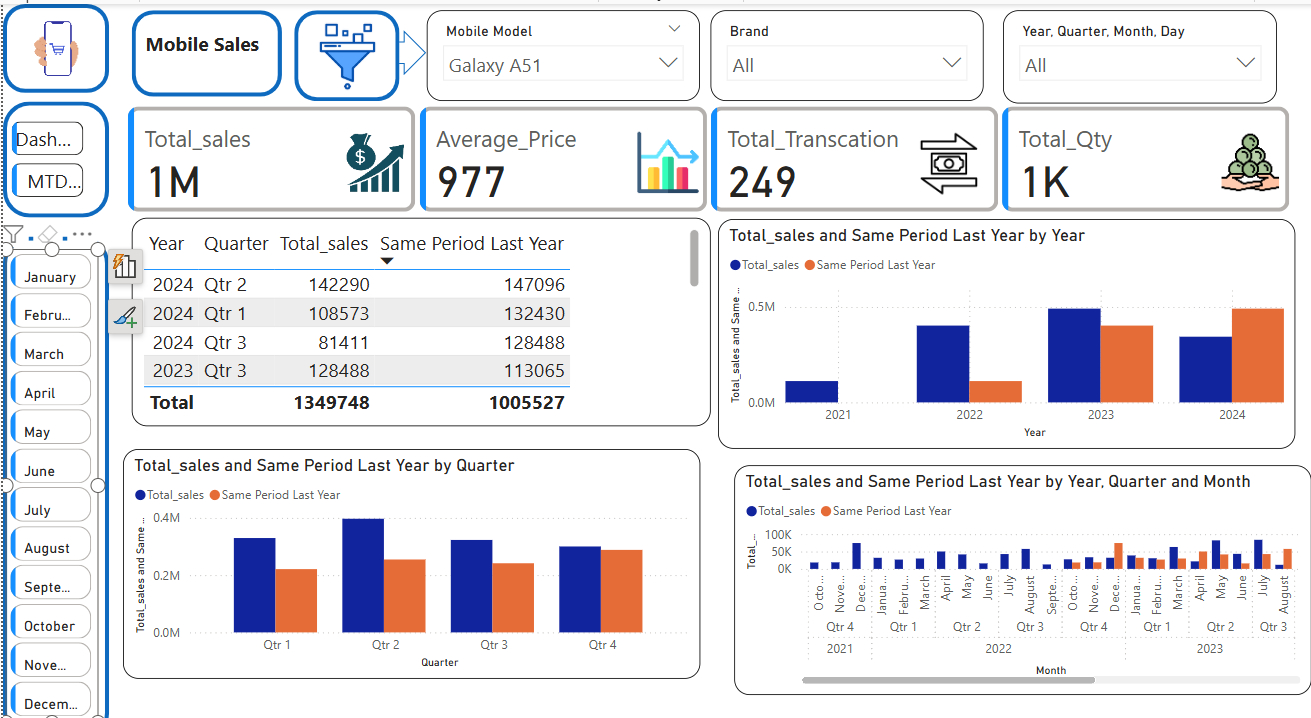

Layout of this report page (visuals, bound fields, positions):
{"tool":"powerbi","page":{"name":"Same Period Last Page","canvas":[1280,720],"ordinal":2},"visuals":[{"type":"shape","box":[360.9,25.4,53.2,44],"z":0},{"type":"shape","box":[284.5,5.8,102.9,89.1],"z":1000},{"type":"image","box":[267.2,13.9,138.8,76.3],"z":2000},{"type":"shape","box":[0,0,103.8,86.9],"z":3000},{"type":"image","box":[25.2,0,53.3,86.9],"z":4000},{"type":"shape","box":[0,95.4,103.8,113.6],"z":5000},{"type":"cardVisual","fields":{"Data":["sales_data.madhu_total_sales","sales_data.Average_Price","sales_data.Total_Transcation","sales_data.Total_Qty"]},"box":[117.8,95.4,1147.1,113.6],"z":6000},{"type":"slicer","fields":{"Values":["sales_data.Mobile Model"]},"box":[414.1,5.8,267.2,89.1],"z":7000},{"type":"slicer","fields":{"Values":["sales_data.Brand"]},"box":[691.7,5.8,267.2,89.1],"z":8000},{"type":"slicer","fields":{"Values":["Custom_Calander.Date.Variation.Date Hierarchy.Year","Custom_Calander.Date.Variation.Date Hierarchy.Quarter","Custom_Calander.Date.Variation.Date Hierarchy.Month","Custom_Calander.Date.Variation.Date Hierarchy.Day"]},"box":[978.6,5.8,268.4,91.4],"z":9000},{"type":"shape","box":[126.1,5.8,146.9,84.4],"z":10000},{"type":"textbox","box":[134.2,20.8,130.7,55.5],"z":11000},{"type":"tableEx","fields":{"Values":["Custom_Calander.Date.Variation.Date Hierarchy.Year","Custom_Calander.Date.Variation.Date Hierarchy.Quarter","sales_data.Total_sales","sales_data.Same Period Last Year"]},"box":[126,209.1,566.2,204.2],"z":12000},{"type":"shape","box":[0,227.2,103.8,492.2],"z":13000},{"type":"advancedSlicerVisual","fields":{"Values":["Custom_Calander.Date.Variation.Date Hierarchy.Month"]},"box":[2.8,239.8,89.7,462.8],"z":14000},{"type":"clusteredColumnChart","fields":{"Category":["Custom_Calander.Date.Variation.Date Hierarchy.Year","Custom_Calander.Date.Variation.Date Hierarchy.Quarter","Custom_Calander.Date.Variation.Date Hierarchy.Month"],"Y":["sales_data.Total_sales","sales_data.Same Period Last Year"]},"box":[699.5,210.3,564.9,225],"z":15000},{"type":"clusteredColumnChart","fields":{"Y":["sales_data.Total_sales","sales_data.Same Period Last Year"],"Category":["Custom_Calander.Date.Variation.Date Hierarchy.Year","Custom_Calander.Date.Variation.Date Hierarchy.Quarter","Custom_Calander.Date.Variation.Date Hierarchy.Month"]},"box":[715.4,451.2,564.9,225],"z":16000},{"type":"clusteredColumnChart","fields":{"Category":["Custom_Calander.Date.Variation.Date Hierarchy.Year","Custom_Calander.Date.Variation.Date Hierarchy.Quarter","Custom_Calander.Date.Variation.Date Hierarchy.Month"],"Y":["sales_data.Total_sales","sales_data.Same Period Last Year"]},"box":[117.4,435.3,564.9,225],"z":17000},{"type":"pageNavigator","box":[8.3,114.4,70.3,75.1],"z":17001}]}

Visuals, with their boxes in screenshot pixels (x1, y1, x2, y2):
shape: (367,26,422,71)
shape: (290,6,394,97)
image: (272,14,413,92)
shape: (0,0,106,88)
image: (26,0,80,88)
shape: (0,97,106,213)
cardVisual - sales_data.madhu_total_sales x sales_data.Average_Price: (120,97,1288,213)
slicer - sales_data.Mobile Model: (422,6,694,97)
slicer - sales_data.Brand: (704,6,976,97)
slicer - Custom_Calander.Date.Variation.Date Hierarchy.Year x Custom_Calander.Date.Variation.Date Hierarchy.Quarter: (996,6,1270,99)
shape: (128,6,278,92)
textbox: (137,21,270,78)
tableEx - Custom_Calander.Date.Variation.Date Hierarchy.Year x Custom_Calander.Date.Variation.Date Hierarchy.Quarter: (128,213,705,421)
shape: (0,231,106,717)
advancedSlicerVisual - Custom_Calander.Date.Variation.Date Hierarchy.Month: (3,244,94,715)
clusteredColumnChart - Custom_Calander.Date.Variation.Date Hierarchy.Year x Custom_Calander.Date.Variation.Date Hierarchy.Quarter: (712,214,1287,443)
clusteredColumnChart - sales_data.Total_sales x sales_data.Same Period Last Year: (728,459,1303,688)
clusteredColumnChart - Custom_Calander.Date.Variation.Date Hierarchy.Year x Custom_Calander.Date.Variation.Date Hierarchy.Quarter: (120,443,695,672)
pageNavigator: (8,116,80,193)
